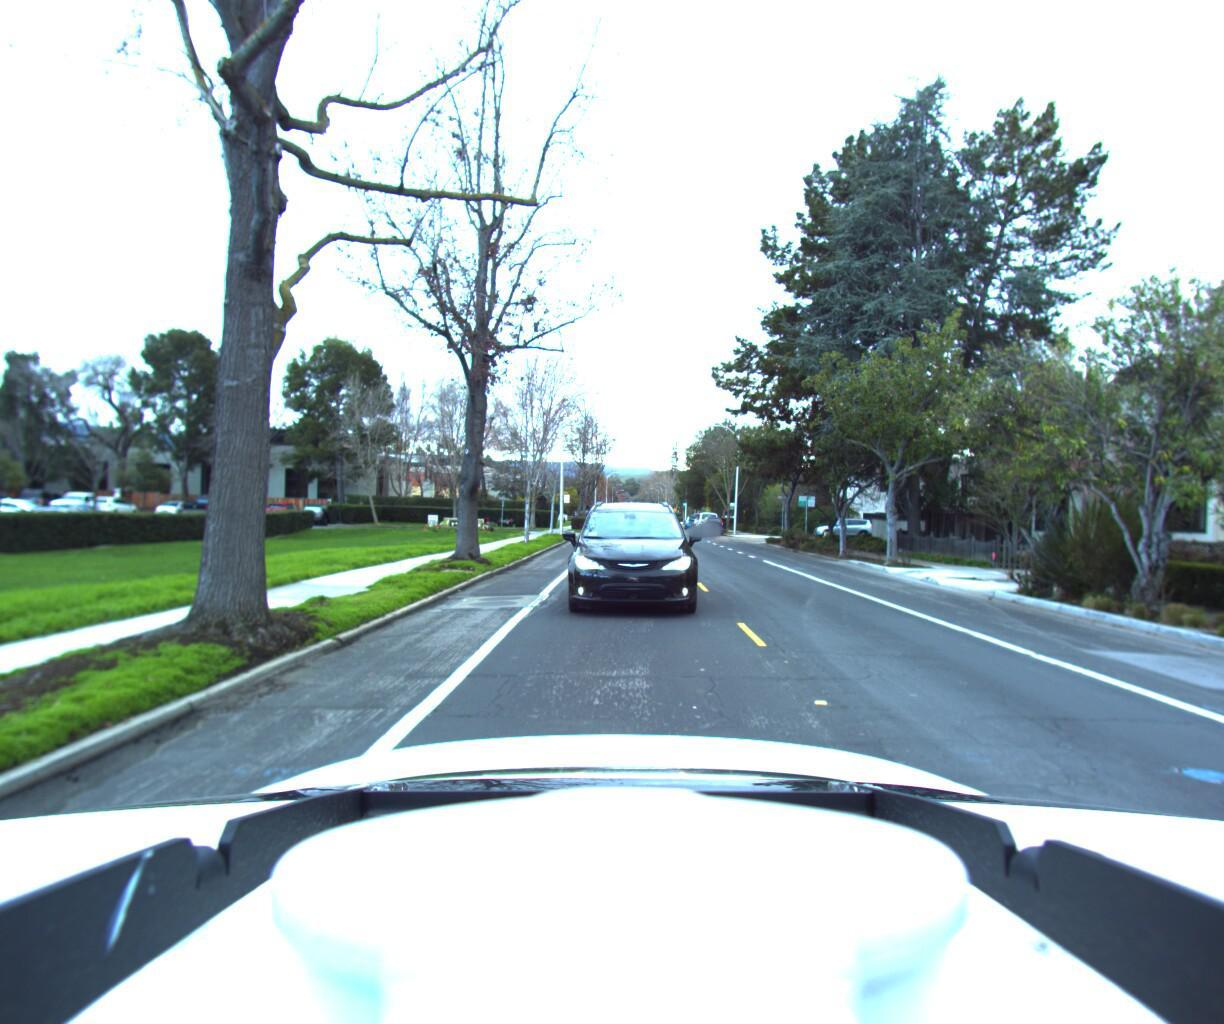car: (562, 495, 700, 624), (810, 511, 877, 536), (693, 506, 719, 529), (698, 511, 724, 530)
